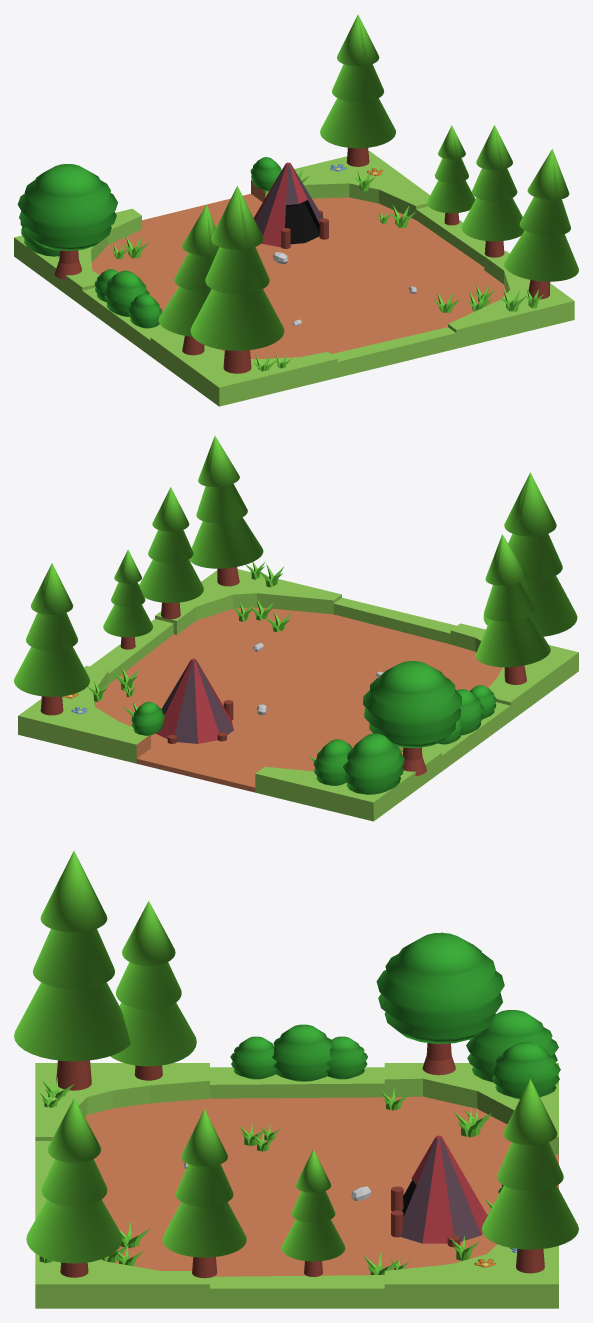
Rendered from jungle level set - 1 Way (1).fbx.
3 renders of one model, top to bottom at view 1: azimuth 30°, elevation 25°; view 2: azimuth 150°, elevation 25°; view 3: azimuth 270°, elevation 25°, orthographic. The views are drawn at different scales.
Visible parts, largest first — view 1: land_platform_001, tree_006, tree_004, tree_001, tree_000, tree_003, tree_005, camp, tree_002, bush_000, bush_005, bush_002; view 2: land_platform_001, tree_004, tree_001, tree_005, tree_000, tree_006, tree_003, camp, bush_003, tree_002, bush_001, bush_002 (+2 smaller); view 3: land_platform_001, tree_006, tree_004, tree_001, tree_000, tree_005, tree_003, camp, tree_002, bush_003, bush_001, bush_000 (+2 smaller).
Part boxes in pixels (<box>): land_platform_001: <box>14,151,574,406</box>; tree_006: <box>190,186,284,373</box>; tree_004: <box>17,164,117,279</box>; tree_001: <box>320,14,395,166</box>; tree_000: <box>504,149,578,299</box>; tree_003: <box>461,125,524,257</box>; tree_005: <box>158,205,219,355</box>; camp: <box>254,162,328,248</box>; tree_002: <box>427,125,475,225</box>; bush_000: <box>104,270,149,316</box>; bush_005: <box>128,293,162,328</box>; bush_002: <box>250,157,281,191</box>; land_platform_001: <box>18,569,578,821</box>; tree_004: <box>363,661,461,775</box>; tree_001: <box>14,563,89,715</box>; tree_005: <box>476,534,550,684</box>; tree_000: <box>189,436,263,586</box>; tree_006: <box>483,472,577,636</box>; tree_003: <box>139,487,203,619</box>; camp: <box>156,658,233,743</box>; bush_003: <box>343,733,404,794</box>; tree_002: <box>103,549,152,649</box>; bush_001: <box>313,739,352,785</box>; bush_002: <box>131,701,164,735</box>; land_platform_001: <box>35,1063,558,1308</box>; tree_006: <box>14,851,130,1090</box>; tree_004: <box>376,932,504,1075</box>; tree_001: <box>482,1079,578,1273</box>; tree_000: <box>26,1098,122,1277</box>; tree_005: <box>110,901,196,1080</box>; tree_003: <box>162,1109,246,1278</box>; camp: <box>391,1135,488,1247</box>; tree_002: <box>281,1149,345,1276</box>; bush_003: <box>466,1010,558,1082</box>; bush_001: <box>491,1042,560,1099</box>; bush_000: <box>272,1024,331,1081</box>.
Bounding box in the file's own units: 17.35 × 8.27 × 16.37.
